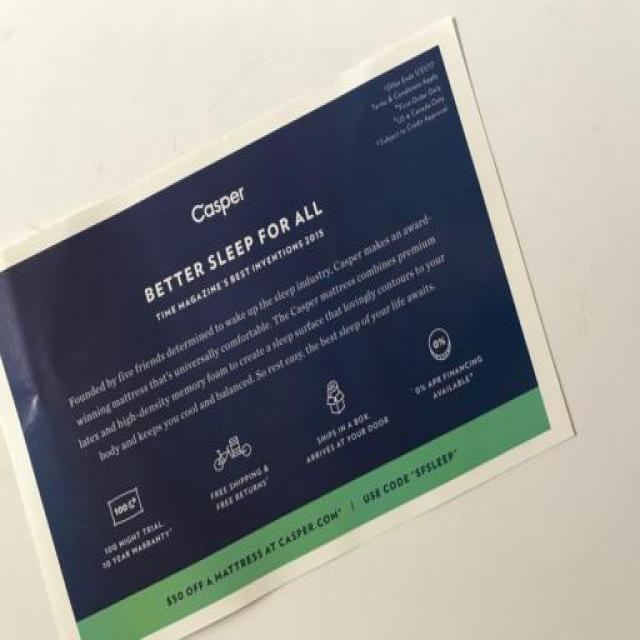paper: (0, 20, 572, 640)
